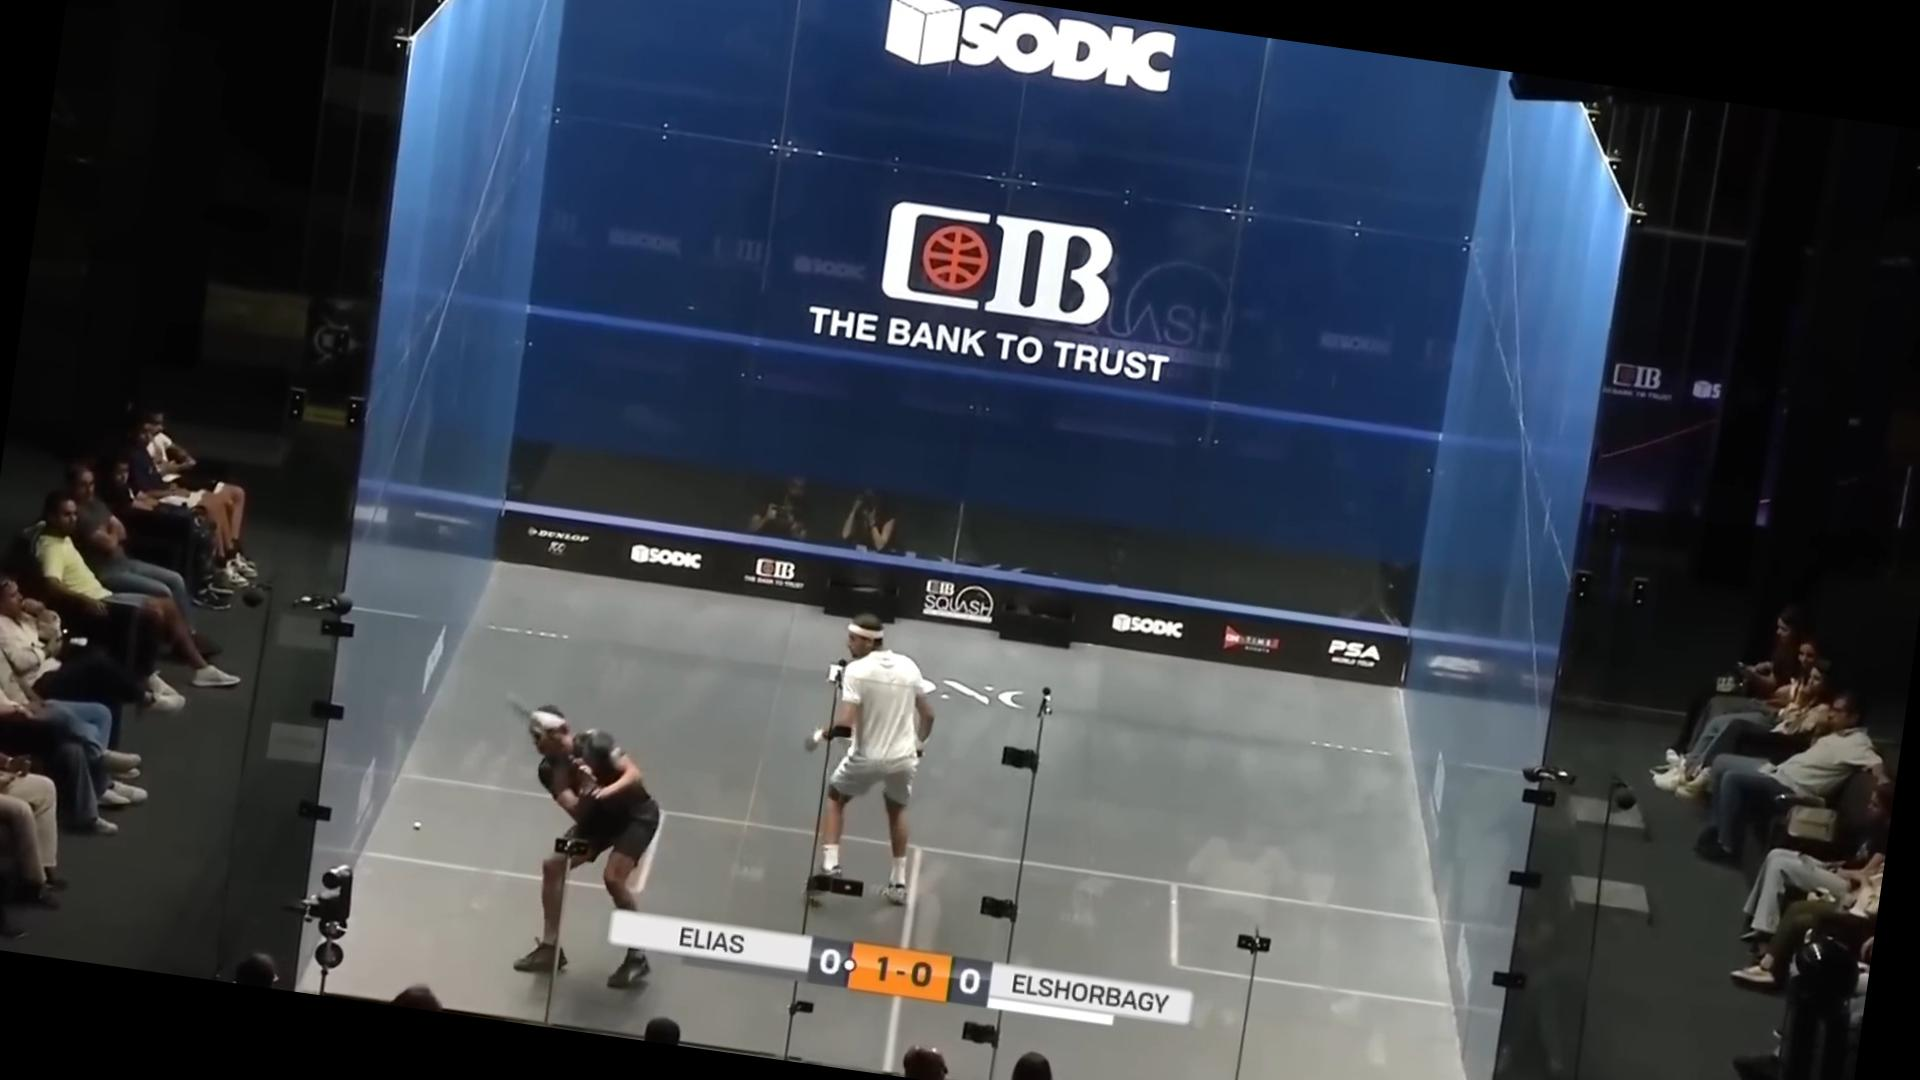Squash-Ball: (400, 808, 434, 844)
